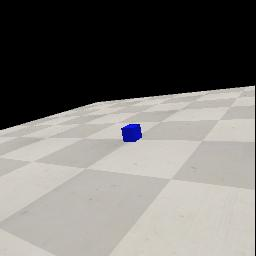box: (121, 124, 142, 142)
